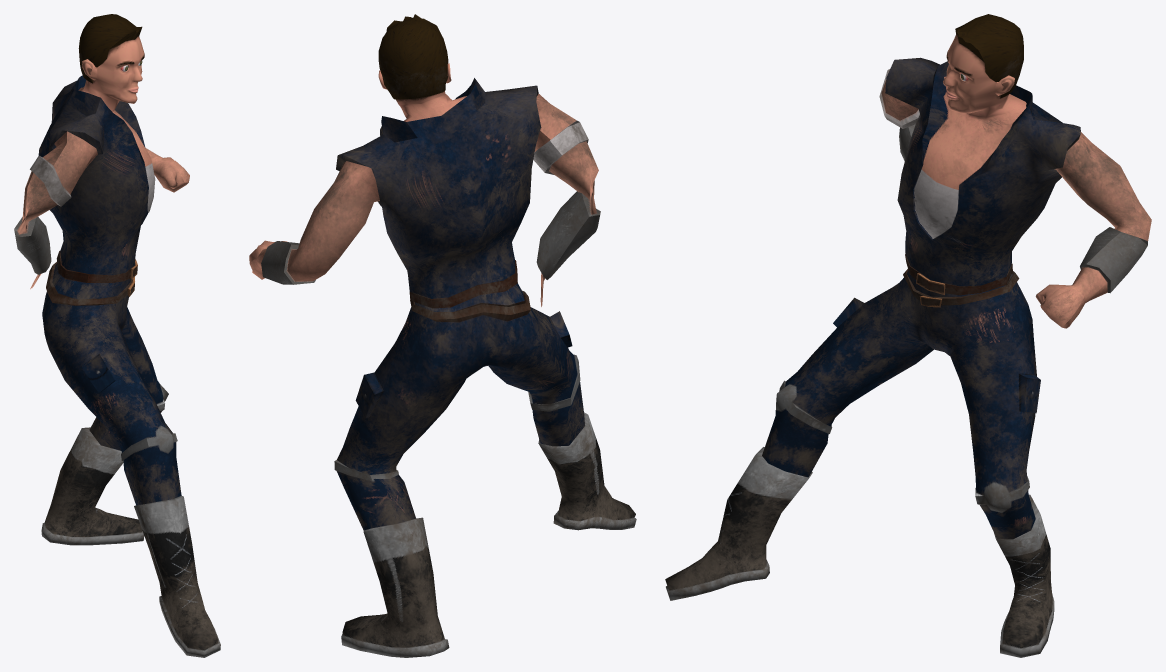
The model's file is Anim_ataque_f2_jugador.0024.obj.
3 renders of one model, left to right at view 1: azimuth 30°, elevation 25°; view 2: azimuth 150°, elevation 25°; view 3: azimuth 270°, elevation 25°, orthographic. The views are drawn at different scales.
Visible parts, largest first — view 1: polySurface1; view 2: polySurface1; view 3: polySurface1.
Boxes of the visible parts, left/top/right/bottom form: polySurface1: left=14, top=14, right=220, bottom=657; polySurface1: left=249, top=14, right=636, bottom=657; polySurface1: left=665, top=14, right=1151, bottom=657.
Bounding box in the file's own units: 4.21 × 9.08 × 6.53.
